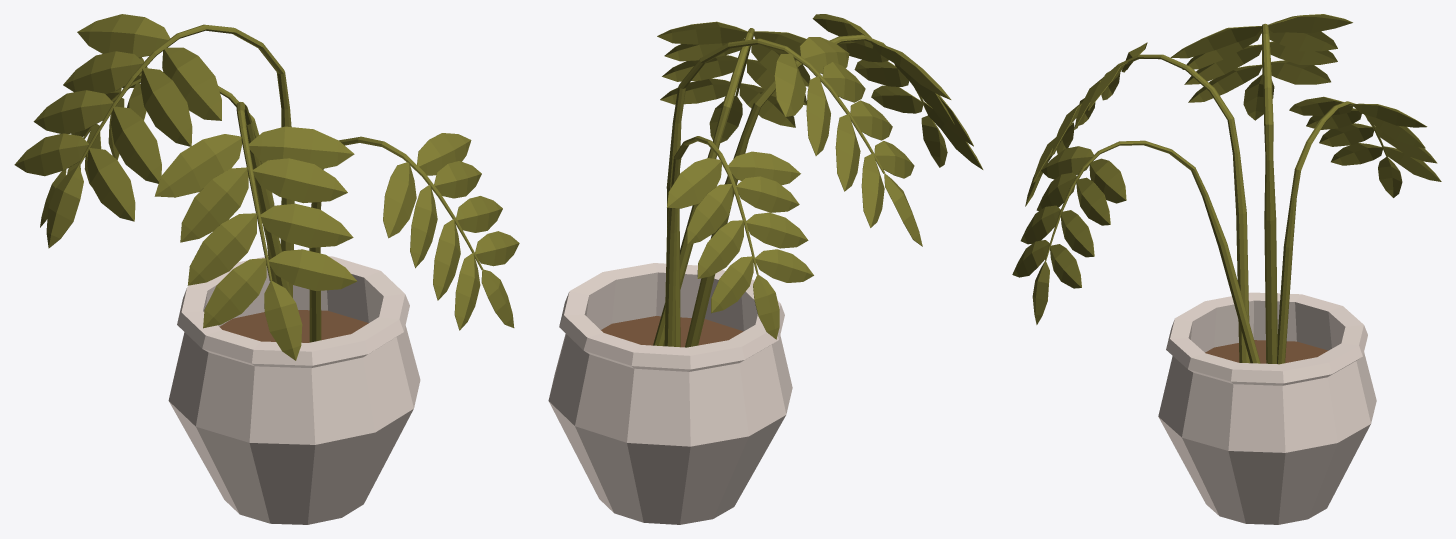
Rendered from Flower_44.fbx.
The picture shows the model from 3 angles, left to right: view 1: azimuth 30°, elevation 25°; view 2: azimuth 150°, elevation 25°; view 3: azimuth 270°, elevation 25°; orthographic projection. The views are drawn at different scales.
Parts seen in each view (by area): view 1: Flower_44; view 2: Flower_44; view 3: Flower_44.
Boxes of the visible parts, x1=… form: Flower_44: x1=14, y1=14, x2=519, y2=524; Flower_44: x1=548, y1=14, x2=983, y2=524; Flower_44: x1=1012, y1=14, x2=1441, y2=524.
Bounding box in the file's own units: 58.85 × 68.02 × 75.13.
